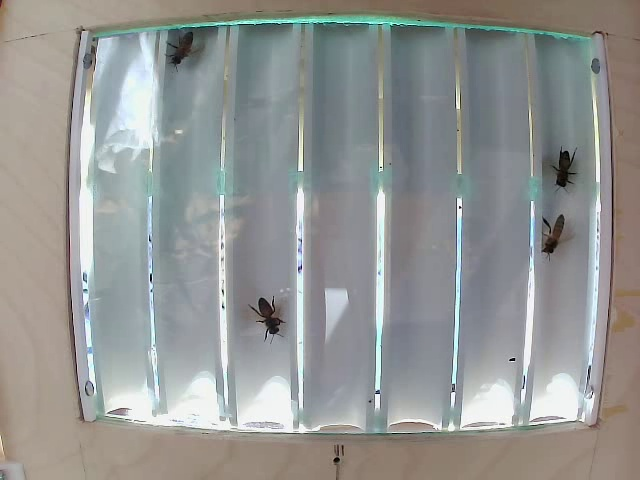bee: (252, 292, 283, 340), (540, 210, 568, 262), (554, 141, 577, 194), (164, 39, 202, 69)
